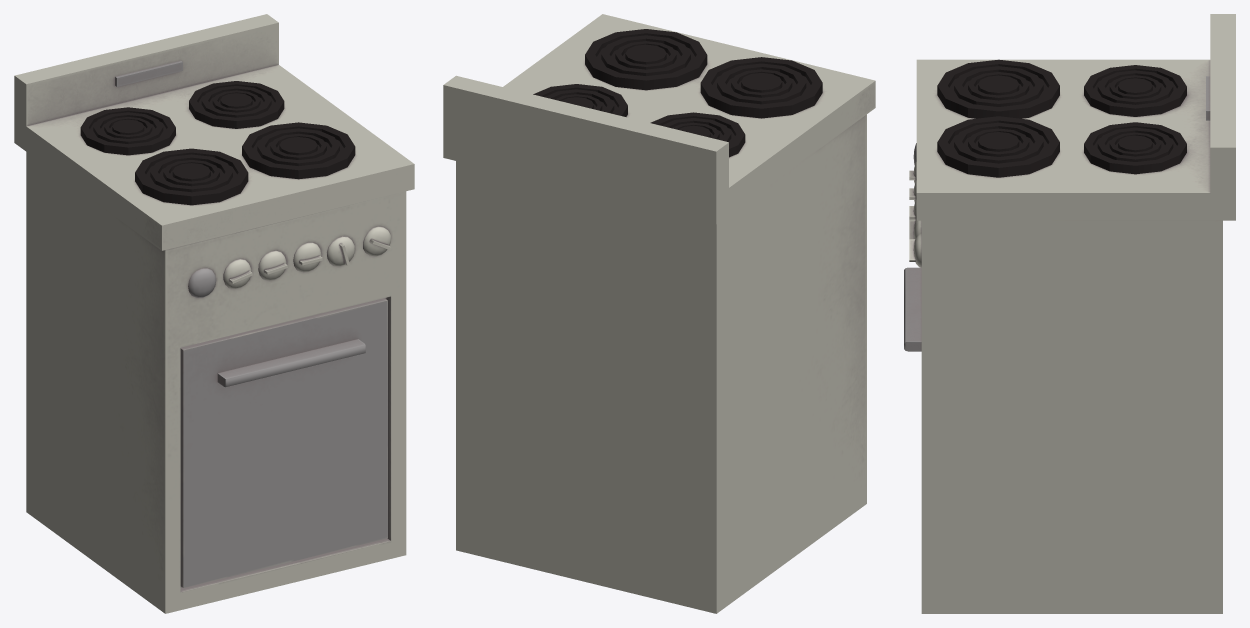
The model's file is SM_gas_Stove.fbx.
3 renders of one model, left to right at view 1: azimuth 30°, elevation 25°; view 2: azimuth 150°, elevation 25°; view 3: azimuth 270°, elevation 25°, orthographic. The views are drawn at different scales.
Parts seen in each view (by area): view 1: SM_gas_Stove; view 2: SM_gas_Stove; view 3: SM_gas_Stove.
Boxes of the visible parts, bbox=[...] form: SM_gas_Stove: bbox=[14, 14, 414, 613]; SM_gas_Stove: bbox=[443, 14, 875, 613]; SM_gas_Stove: bbox=[904, 14, 1235, 613].
Bounding box in the file's own units: 67.92 × 71.37 × 111.
Materials: 1 (1 with a texture image).
